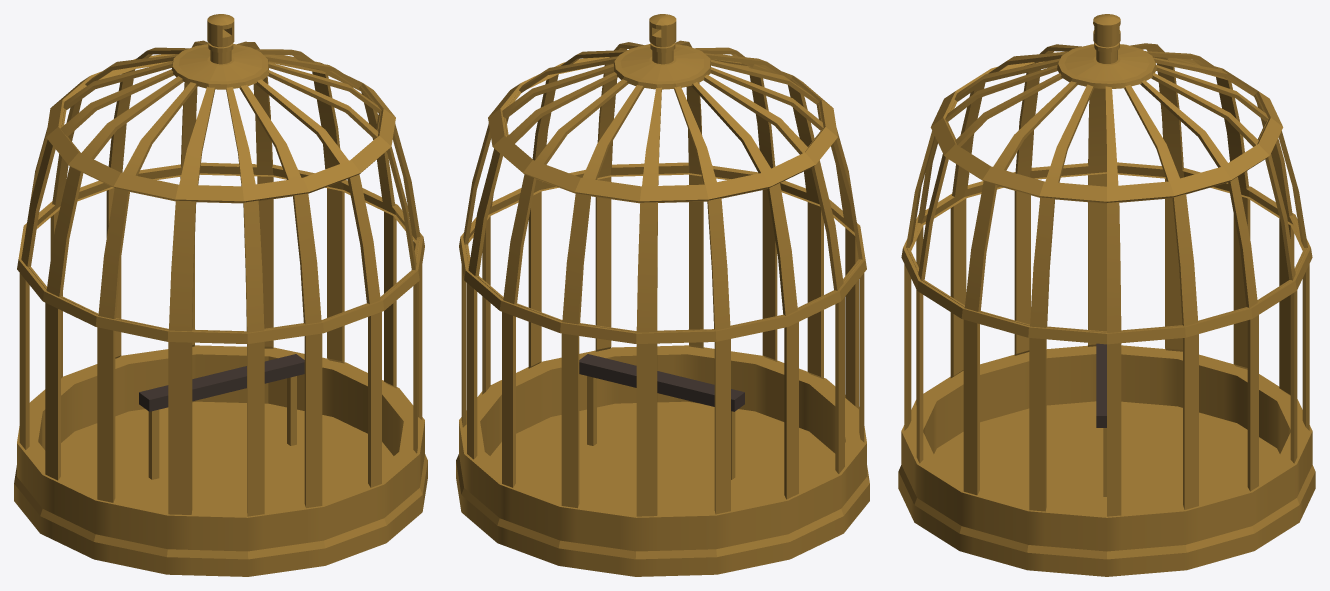
Rendered from birdcage 1.fbx.
3 views of the same model, side by side, from view 1: azimuth 30°, elevation 25°; view 2: azimuth 150°, elevation 25°; view 3: azimuth 270°, elevation 25° (orthographic).
Parts seen in each view (by area): view 1: cage, bottom, top, post; view 2: cage, bottom, top, post; view 3: cage, bottom, top, post.
Part boxes in pixels (left/top/right/bottom): cage: left=17, top=40, right=424, bottom=516; bottom: left=14, top=345, right=427, bottom=576; top: left=172, top=14, right=268, bottom=89; post: left=139, top=354, right=304, bottom=479; cage: left=459, top=40, right=866, bottom=516; bottom: left=456, top=345, right=869, bottom=576; top: left=613, top=14, right=710, bottom=89; post: left=579, top=354, right=744, bottom=479; cage: left=901, top=43, right=1312, bottom=516; bottom: left=898, top=345, right=1315, bottom=576; top: left=1057, top=14, right=1156, bottom=88; post: left=1096, top=343, right=1106, bottom=496.
Size of the model in its own units: 58.82 by 73.47 by 58.82.
